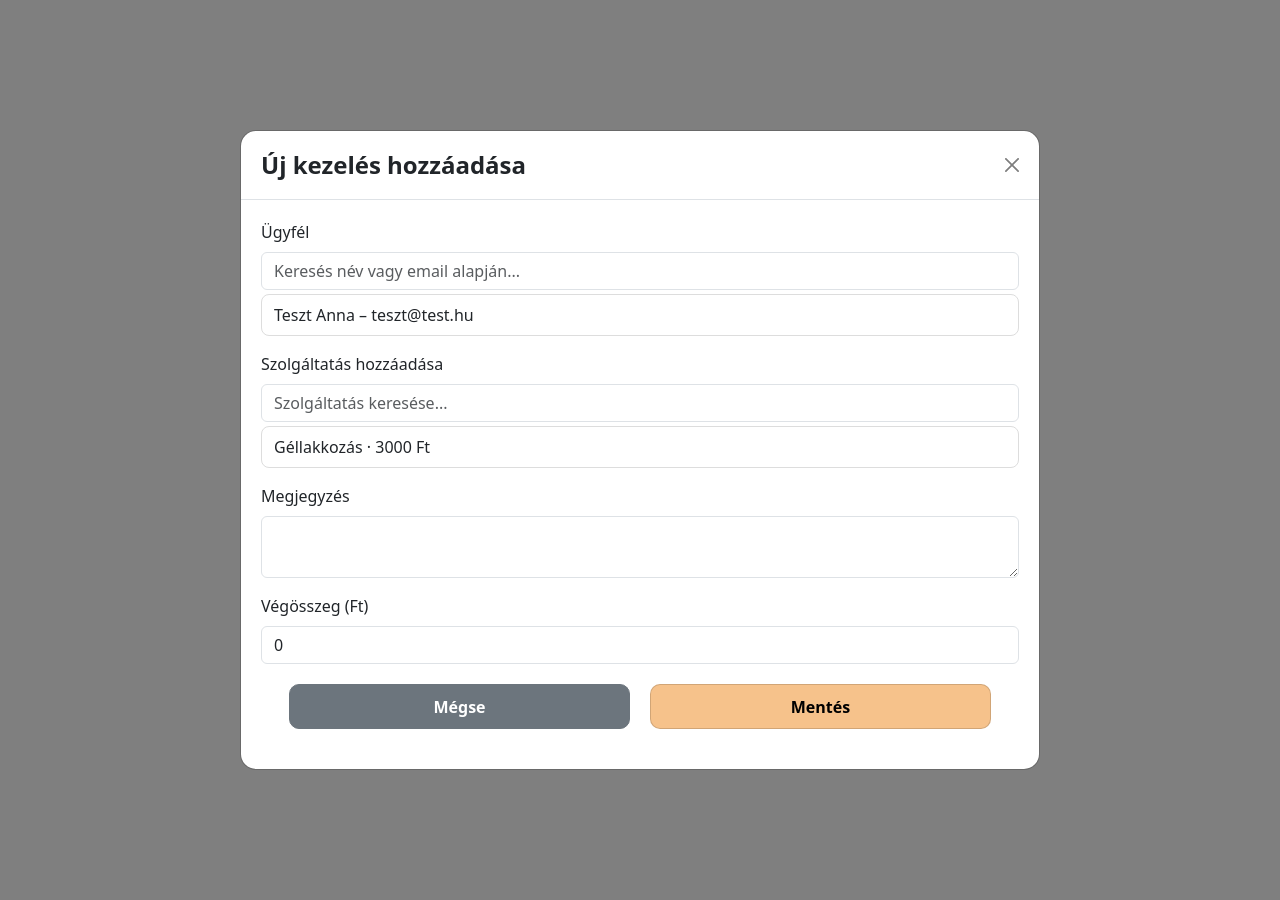
TreatmentModal › validáció működik
What coordinates should you click on to do the following:
click the button "Mentés"
I would click on:
 (820, 706)
Its box is [650,684,991,729].
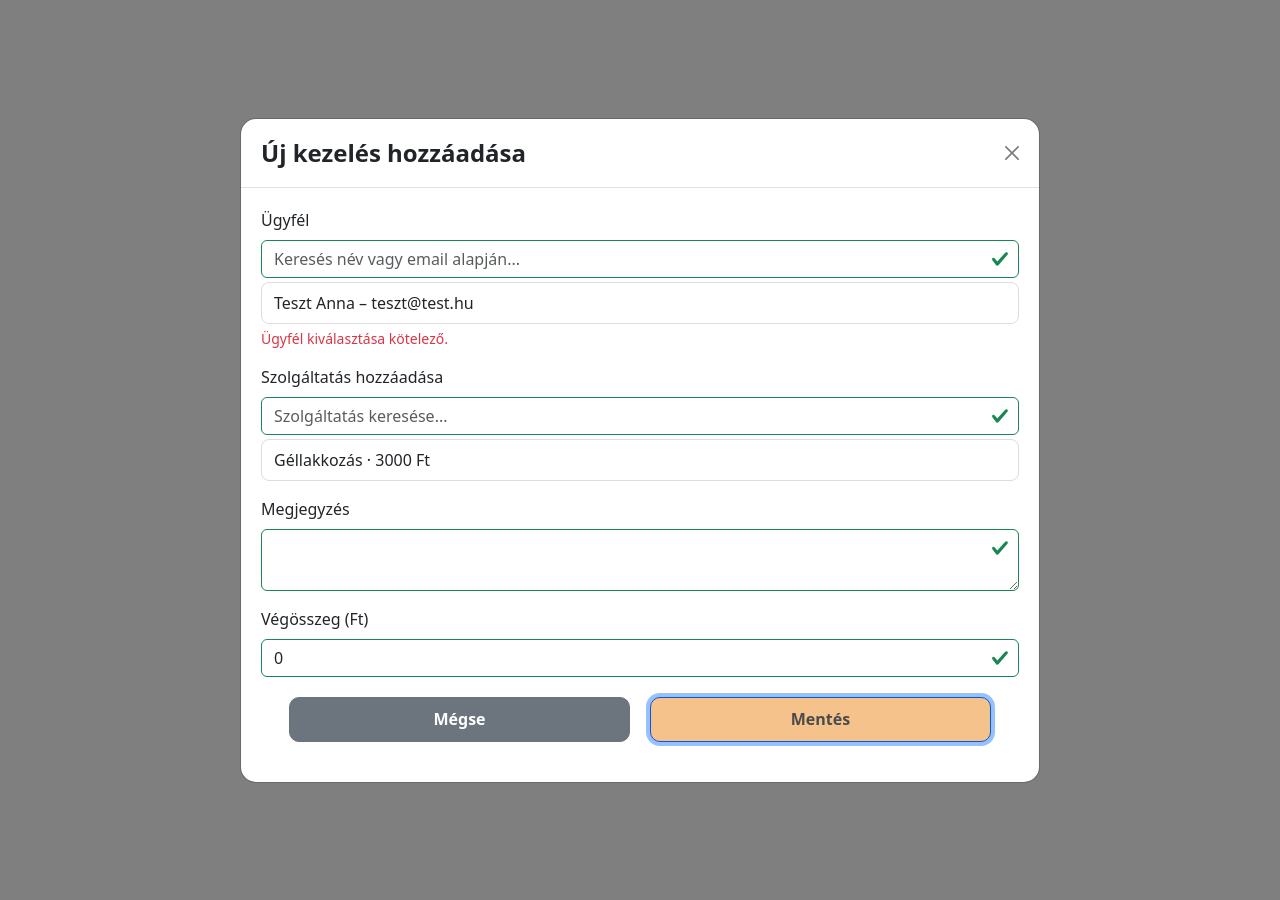
Expected: the text "Ügyfél kiválasztása kötelező." is shown, [261,328,448,348]
